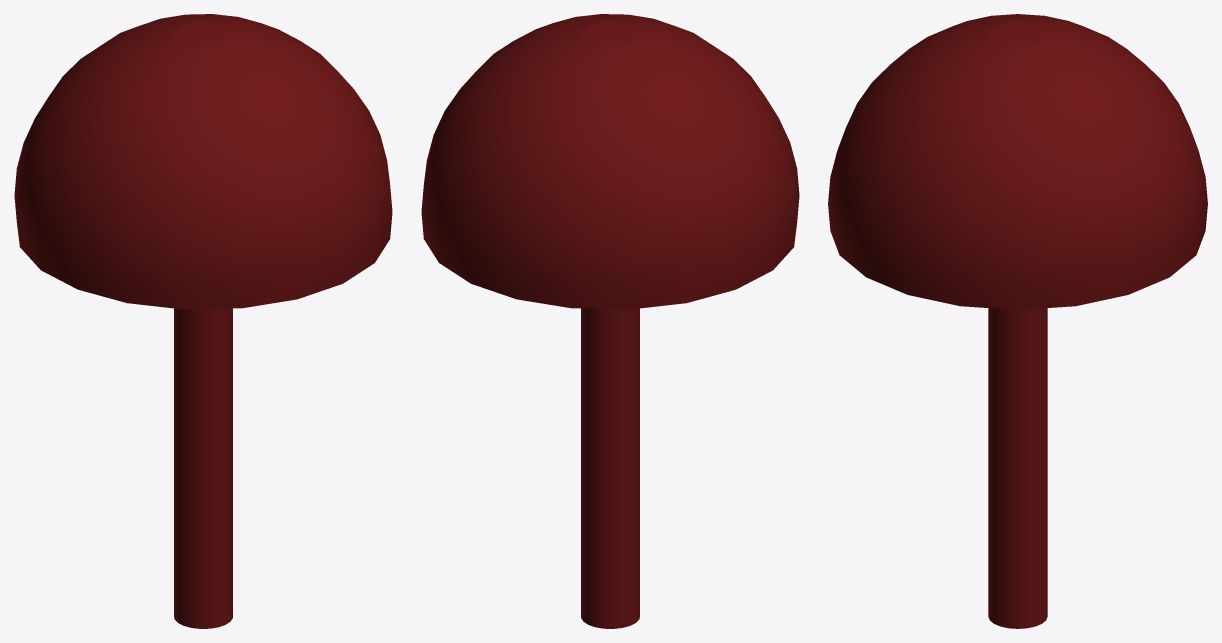
Rendered from mushroomApr.fbx.
3 renders of one model, left to right at view 1: azimuth 30°, elevation 25°; view 2: azimuth 150°, elevation 25°; view 3: azimuth 270°, elevation 25°, orthographic.
Parts seen in each view (by area): view 1: pSphere1; view 2: pSphere1; view 3: pSphere1.
Part boxes in pixels (x1,y1,x2,y2): pSphere1: (14, 14, 392, 628); pSphere1: (421, 14, 799, 628); pSphere1: (828, 14, 1207, 628).
Size of the model in its own units: 2 by 3.4 by 2.
